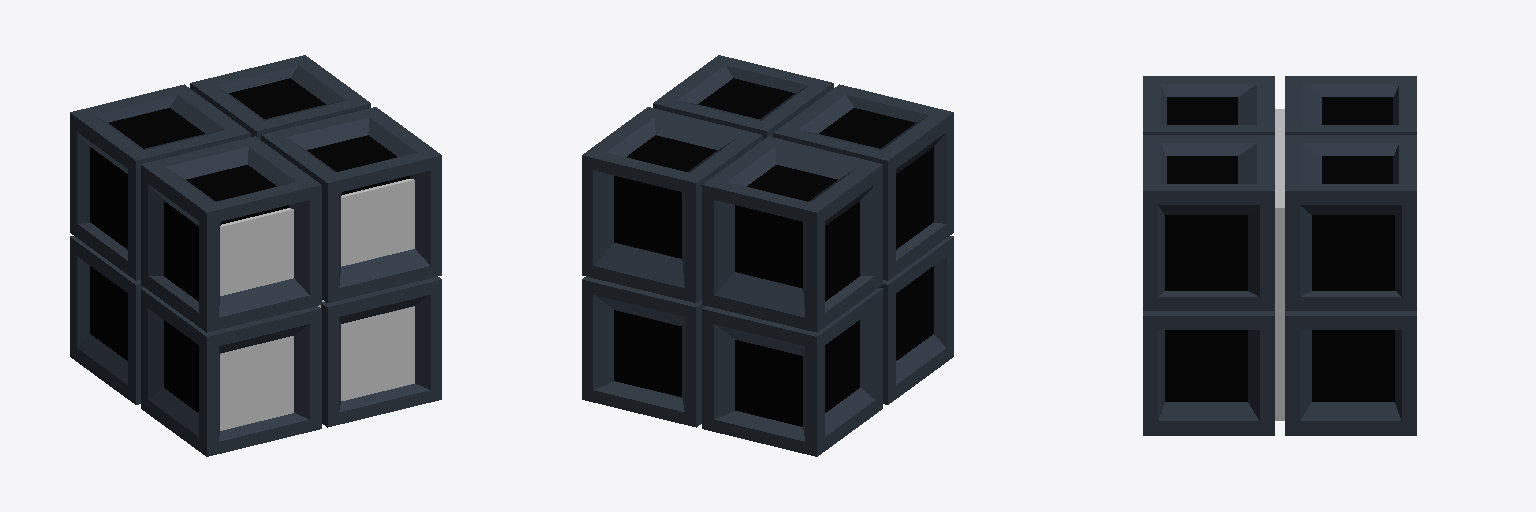
File: cajafuturista.obj
The picture shows the model from 3 angles: view 1: azimuth 30°, elevation 25°; view 2: azimuth 150°, elevation 25°; view 3: azimuth 270°, elevation 25°; orthographic projection.
Parts seen in each view (by area): view 1: Cube, Cube.001; view 2: Cube; view 3: Cube, Cube.001.
Part boxes in pixels (bbox=[...]): Cube: bbox=[70, 55, 441, 456]; Cube.001: bbox=[220, 179, 414, 430]; Cube: bbox=[582, 55, 953, 456]; Cube: bbox=[1143, 76, 1416, 435]; Cube.001: bbox=[1275, 109, 1284, 420].
Bounding box in the file's own units: 4.1 × 4.07 × 4.14.